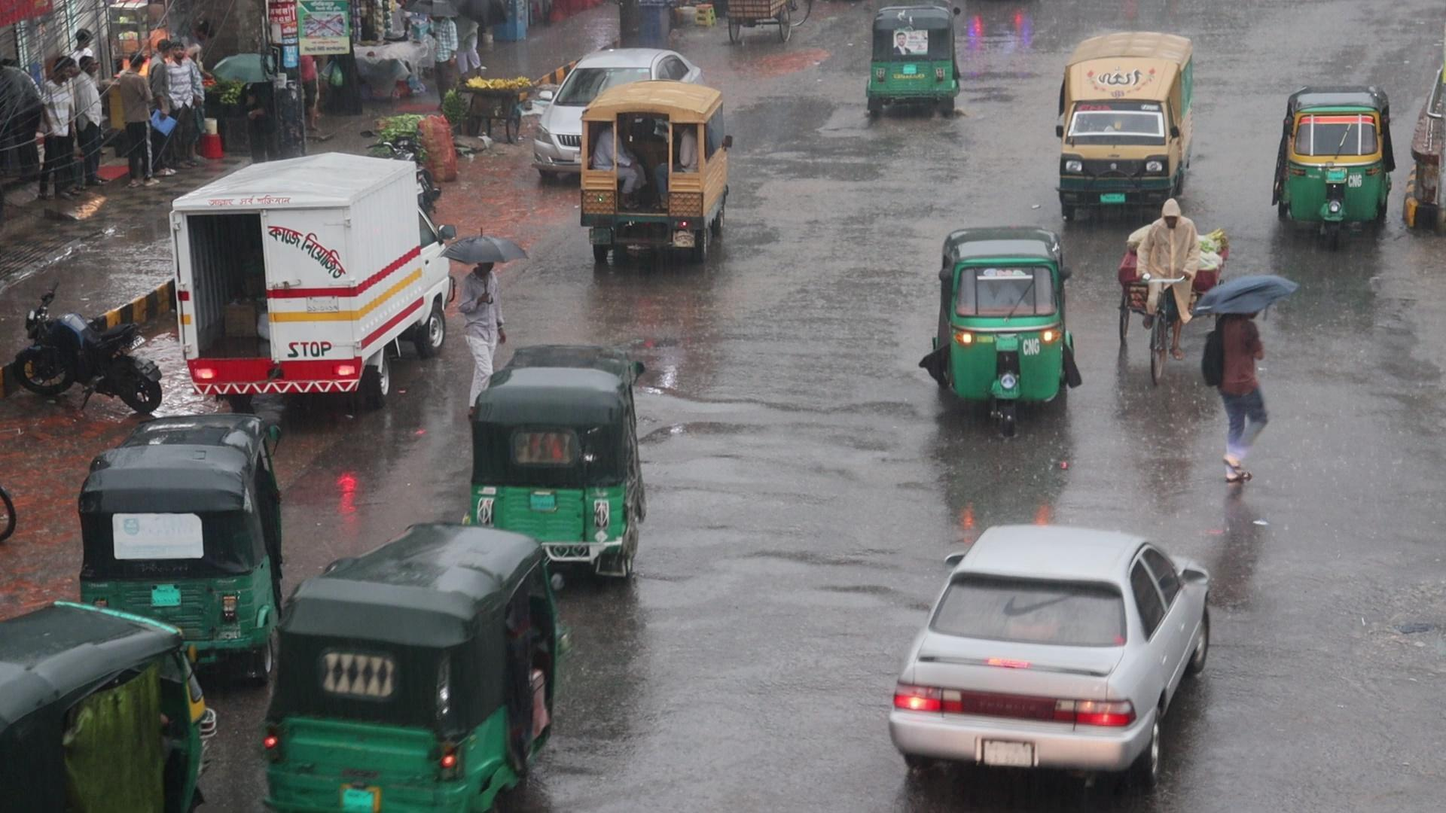Car: (894, 530, 1217, 798)
Truck: (572, 76, 733, 270), (1052, 32, 1204, 231)
